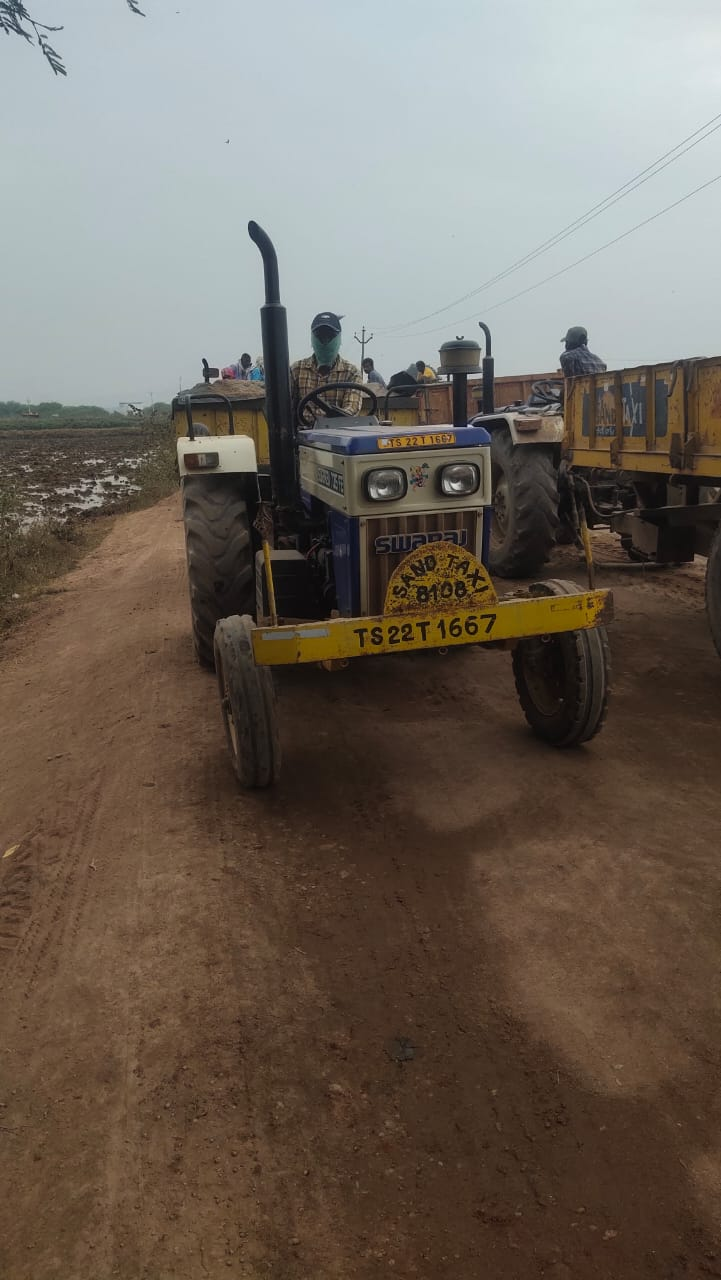num_plate: (351, 606, 506, 658)
